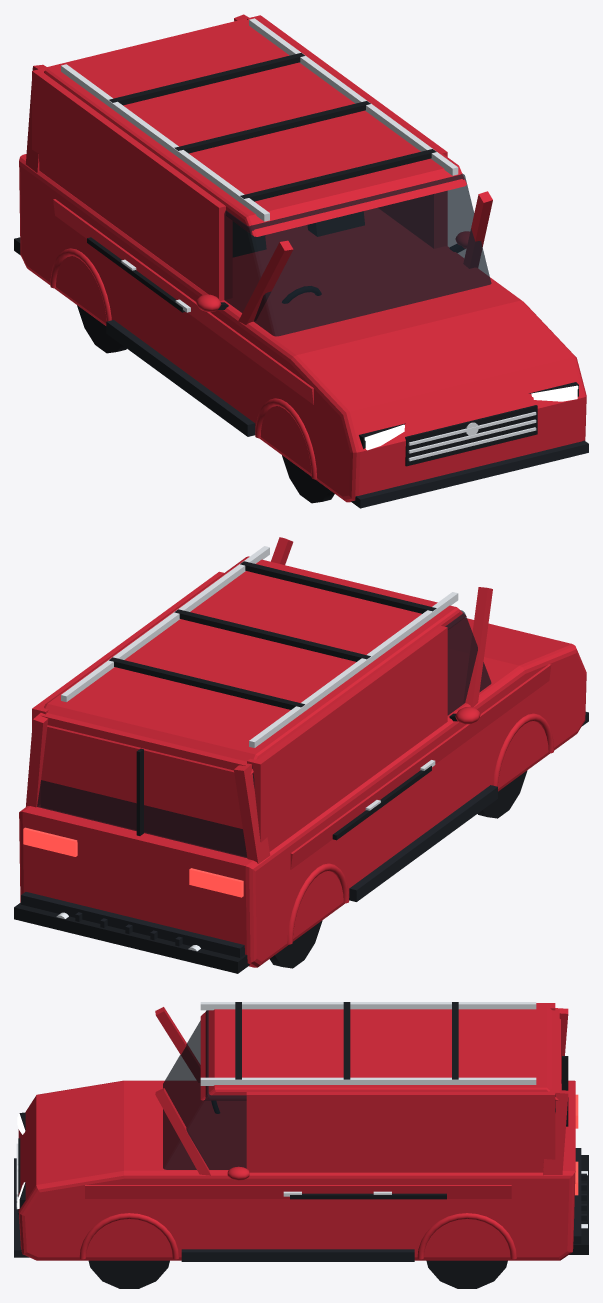
The model's file is car_van.glb.
3 renders of one model, top to bottom at view 1: azimuth 30°, elevation 25°; view 2: azimuth 150°, elevation 25°; view 3: azimuth 270°, elevation 25°, orthographic. The views are drawn at different scales.
Visible parts, largest first — view 1: car_van; view 2: car_van; view 3: car_van.
Boxes of the visible parts, bbox=[...] form: car_van: bbox=[14, 14, 588, 508]; car_van: bbox=[14, 537, 588, 973]; car_van: bbox=[14, 1002, 588, 1288].
Size of the model in its own units: 2.46 by 2.12 by 5.31.
